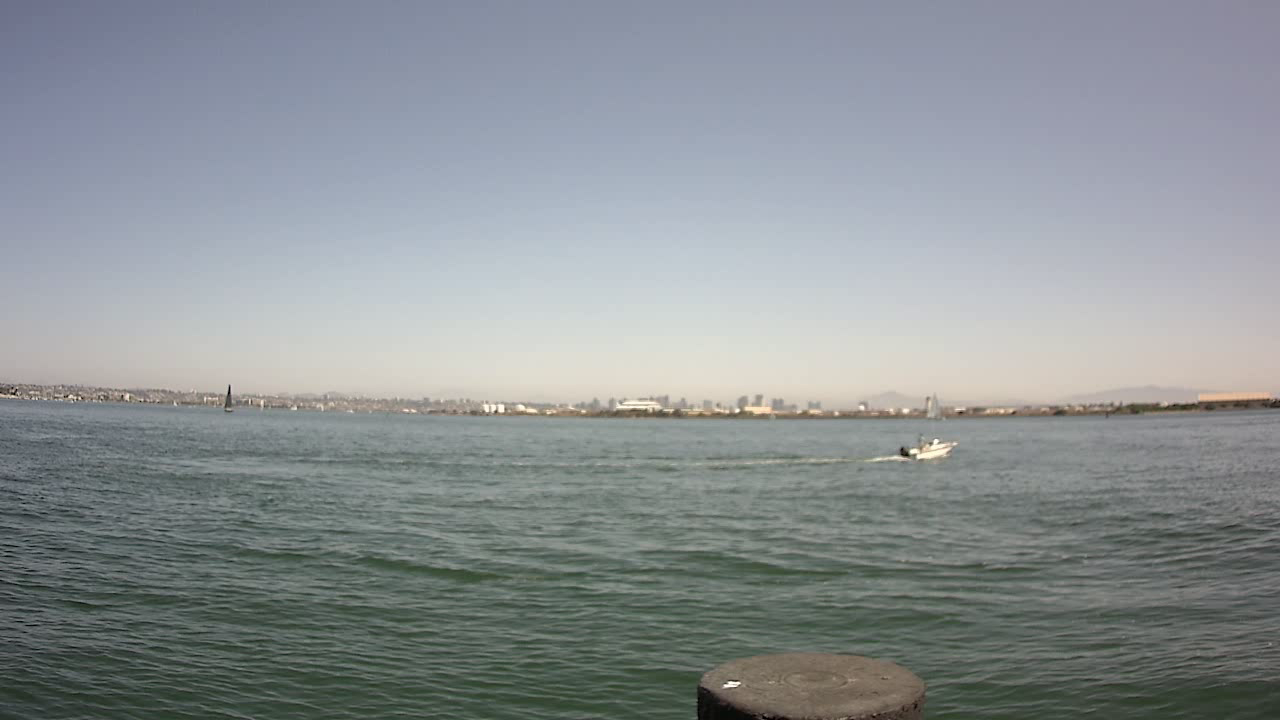target: (897, 422, 963, 465)
